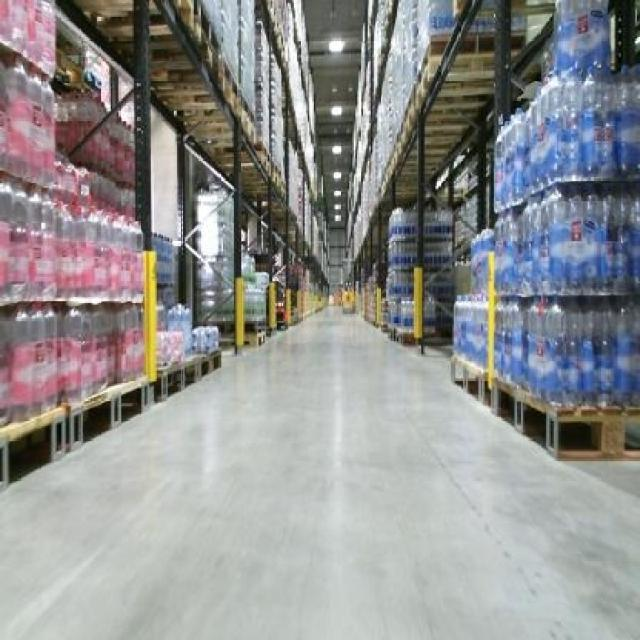floor: (0, 308, 637, 637)
pallets: (449, 0, 637, 455)
